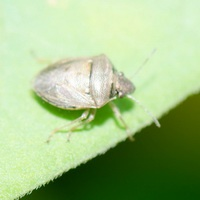insect: (34, 54, 134, 142)
